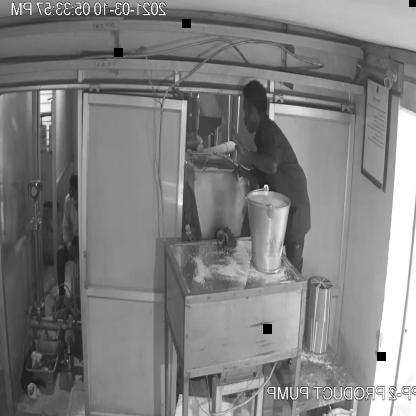no_glove: (226, 127, 281, 180)
